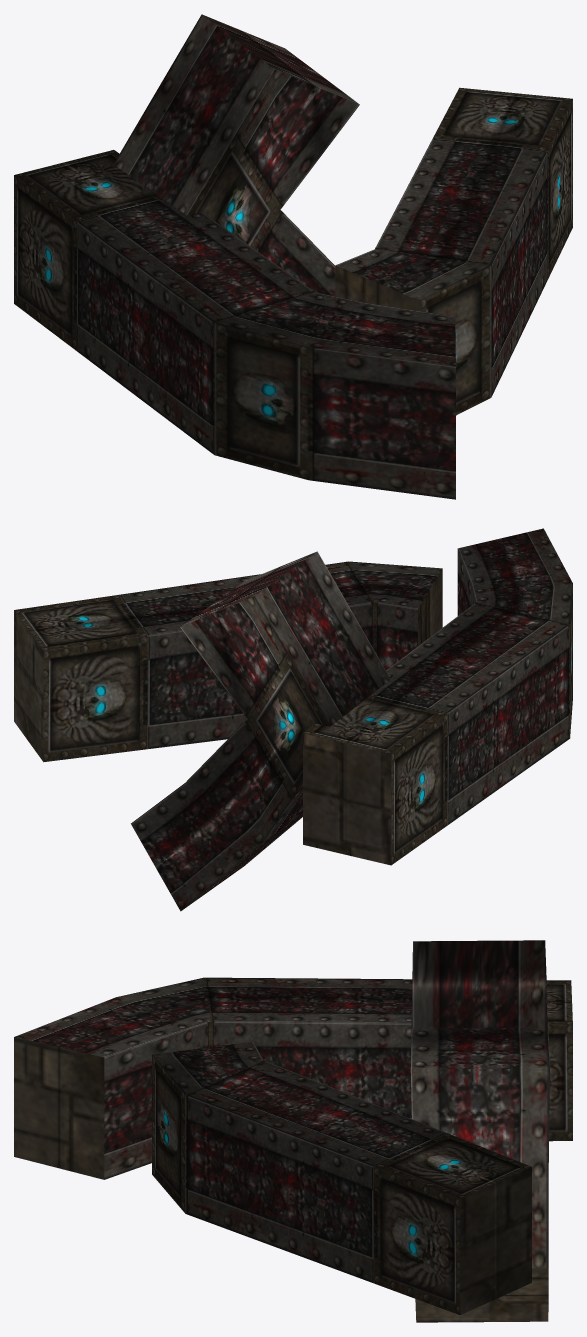
Rendered from gate-destr_06.obj.
3 renders of one model, top to bottom at view 1: azimuth 30°, elevation 25°; view 2: azimuth 150°, elevation 25°; view 3: azimuth 270°, elevation 25°, orthographic. The views are drawn at different scales.
Visible parts, largest first — view 1: (null); view 2: (null); view 3: (null).
Boxes of the visible parts, left/top/right/bottom form: (null): left=14, top=14, right=572, bottom=499; (null): left=14, top=528, right=572, bottom=911; (null): left=14, top=940, right=572, bottom=1322.
Bounding box in the file's own units: 2.06 × 1.51 × 2.21.
